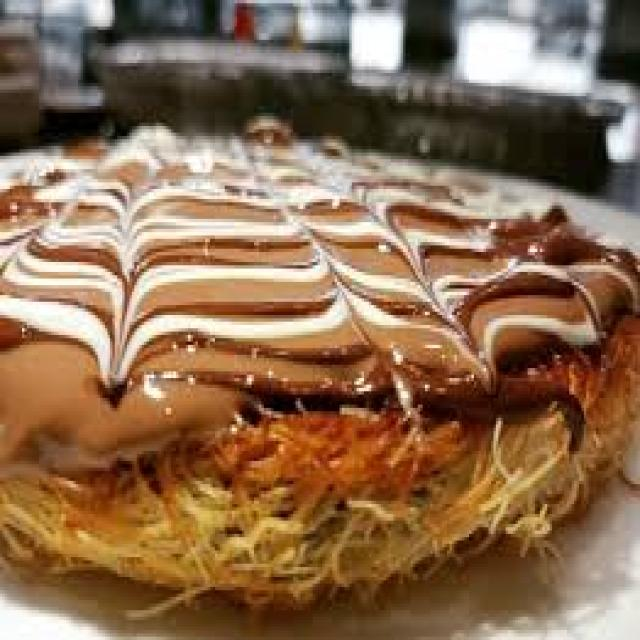konafa: (0, 106, 640, 640)
